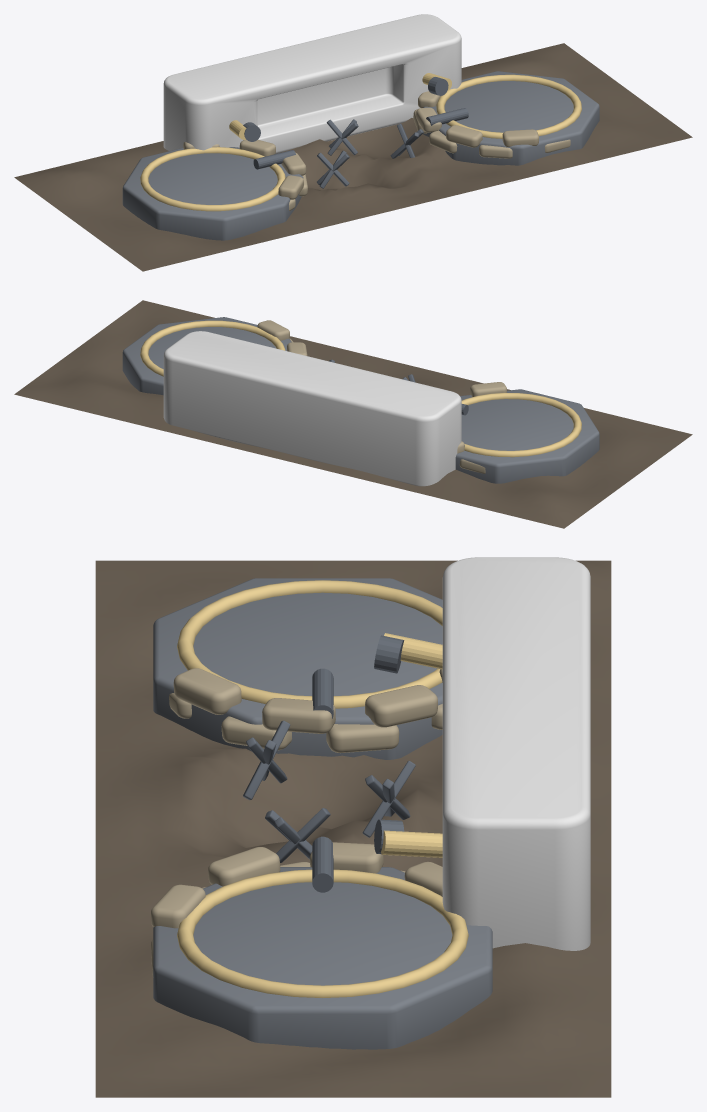
The model's file is warfield_arena.glb.
3 renders of one model, top to bottom at view 1: azimuth 30°, elevation 25°; view 2: azimuth 150°, elevation 25°; view 3: azimuth 270°, elevation 25°, orthographic. The views are drawn at different scales.
Visible parts, largest first — view 1: MudTerrain, ArmoredBunker, BastionBases, Sandbags, BastionBrassRings, TankTraps, HowitzerBarrels, BastionGuns; view 2: ArmoredBunker, MudTerrain, BastionBases, BastionBrassRings, Sandbags; view 3: MudTerrain, BastionBases, ArmoredBunker, Sandbags, BastionBrassRings, TankTraps, HowitzerBarrels, BastionGuns.
Boxes of the visible parts, x1=… form: MudTerrain: x1=14, y1=43, x2=692, y2=271; ArmoredBunker: x1=163, y1=14, x2=461, y2=153; BastionBases: x1=122, y1=71, x2=599, y2=240; Sandbags: x1=183, y1=91, x2=570, y2=210; BastionBrassRings: x1=140, y1=74, x2=581, y2=211; TankTraps: x1=317, y1=119, x2=423, y2=188; HowitzerBarrels: x1=229, y1=73, x2=451, y2=141; BastionGuns: x1=253, y1=108, x2=468, y2=169; ArmoredBunker: x1=163, y1=331, x2=461, y2=486; MudTerrain: x1=14, y1=300, x2=692, y2=528; BastionBases: x1=122, y1=317, x2=599, y2=483; BastionBrassRings: x1=140, y1=320, x2=581, y2=457; Sandbags: x1=257, y1=320, x2=506, y2=473; MudTerrain: x1=95, y1=560, x2=611, y2=1097; BastionBases: x1=153, y1=578, x2=492, y2=1049; ArmoredBunker: x1=442, y1=557, x2=590, y2=950; Sandbags: x1=150, y1=668, x2=442, y2=977; BastionBrassRings: x1=177, y1=580, x2=468, y2=997; TankTraps: x1=243, y1=720, x2=415, y2=862; HowitzerBarrels: x1=374, y1=633, x2=442, y2=857; BastionGuns: x1=312, y1=668, x2=333, y2=892.
Size of the model in its own units: 4.98 by 0.7643 by 2.02.
